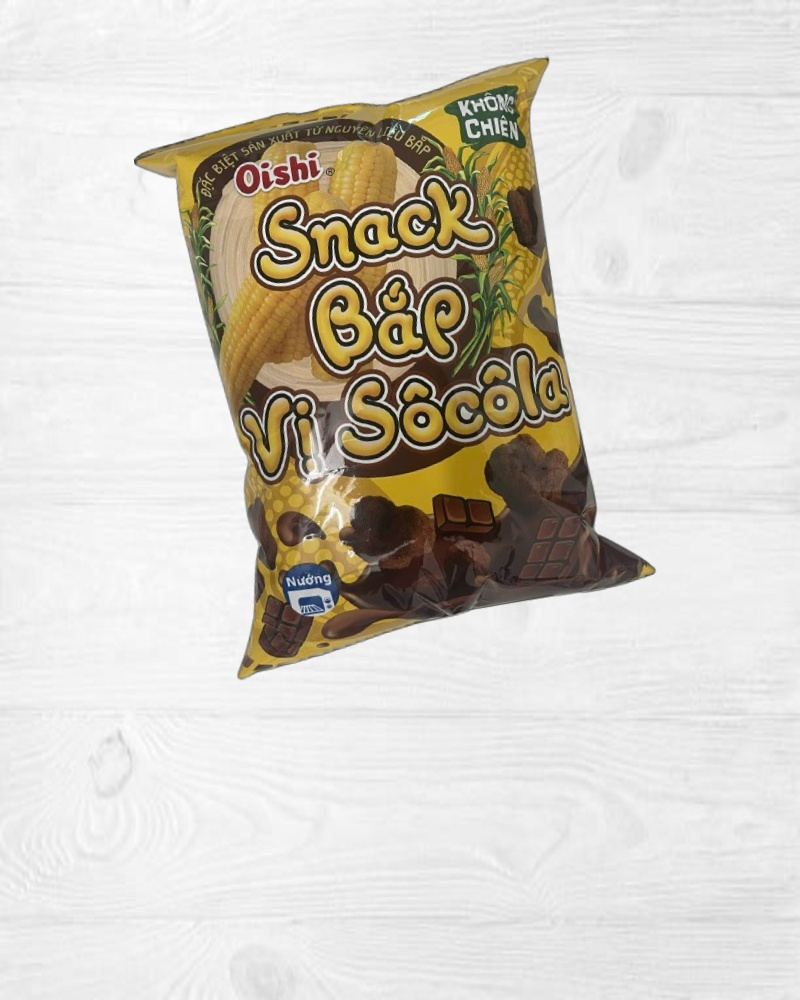Snack socola: (132, 57, 660, 670)
